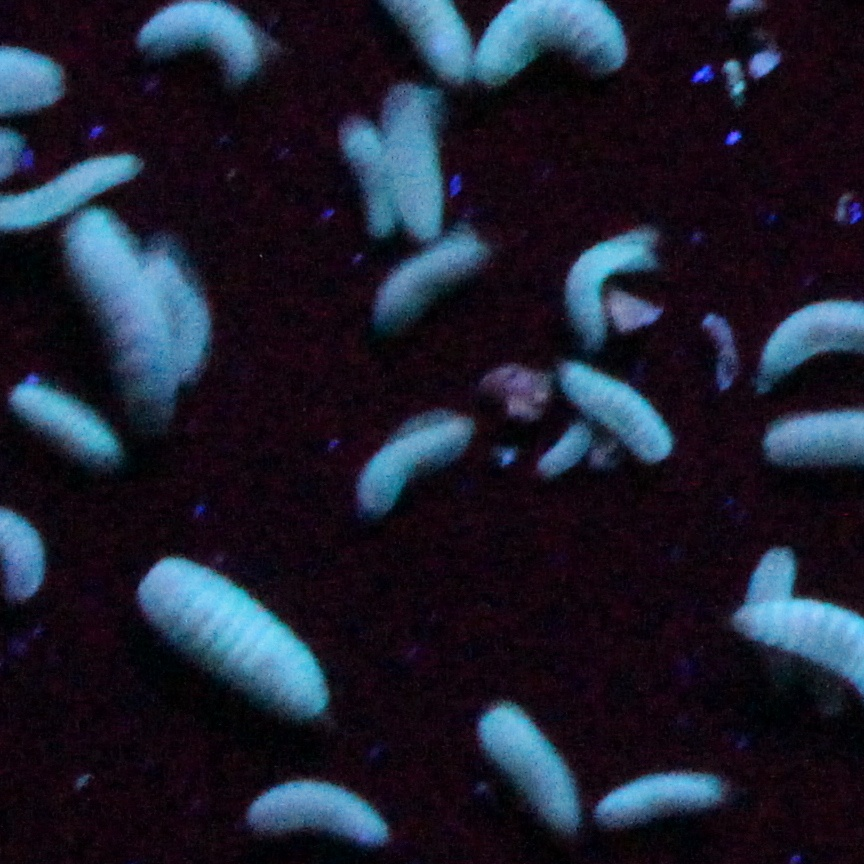larve: (141, 546, 327, 725), (73, 208, 172, 395), (472, 700, 584, 838), (361, 406, 468, 511), (247, 777, 389, 847), (557, 357, 667, 444), (573, 218, 643, 339), (391, 225, 477, 315), (14, 385, 118, 453), (400, 89, 438, 247), (348, 116, 386, 261), (597, 784, 726, 822), (543, 424, 588, 476)
